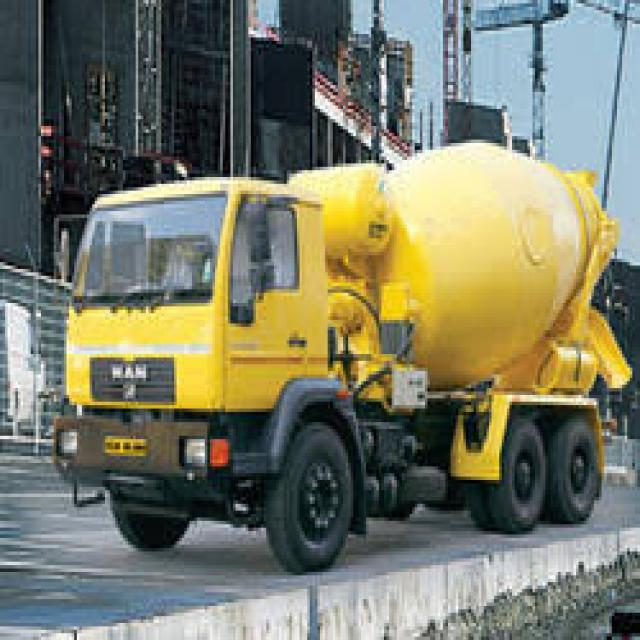Mixer Truck: (50, 134, 635, 574)
